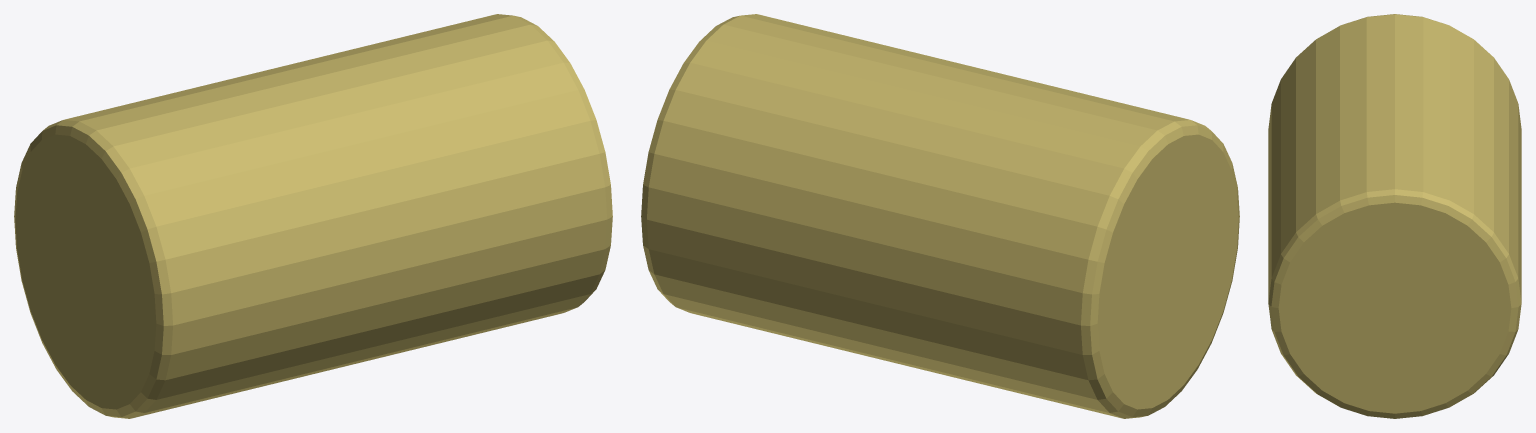
Rendered from 5_upper.obj.
3 views of the same model, side by side, from view 1: azimuth 30°, elevation 25°; view 2: azimuth 150°, elevation 25°; view 3: azimuth 270°, elevation 25° (orthographic). The views are drawn at different scales.
Bounding box in the file's own units: 0.36 × 0.21 × 0.21.
